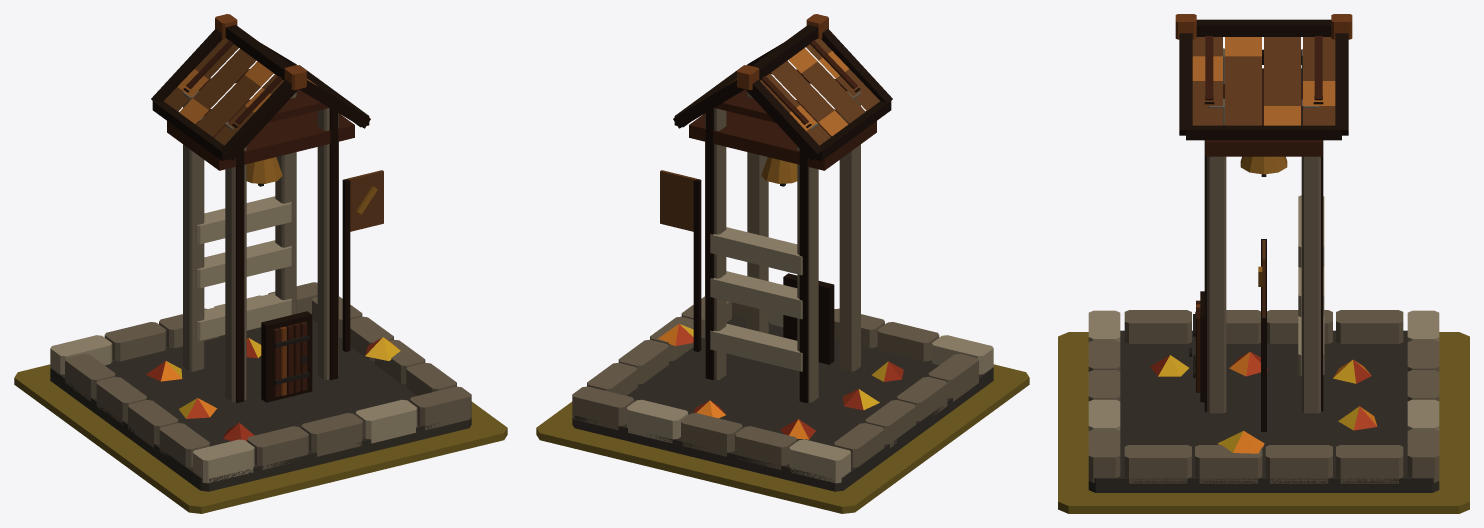
File: bell-tower_t3.glb
3 renders of one model, left to right at view 1: azimuth 30°, elevation 25°; view 2: azimuth 150°, elevation 25°; view 3: azimuth 270°, elevation 25°, orthographic. The views are drawn at different scales.
Visible parts, largest first — view 1: MMR | bell-tower | T03 Architecture.001, MMR | bell-tower | Tier 03 Ground.001, MMR | bell-tower | T03 Autumn Dressing.001, MMR | bell-tower | T03 Banner Flag 1.001, MMR | bell-tower | T03 Bell.001; view 2: MMR | bell-tower | T03 Architecture.001, MMR | bell-tower | Tier 03 Ground.001, MMR | bell-tower | T03 Autumn Dressing.001, MMR | bell-tower | T03 Banner Flag 1.001, MMR | bell-tower | T03 Bell.001; view 3: MMR | bell-tower | T03 Architecture.001, MMR | bell-tower | Tier 03 Ground.001, MMR | bell-tower | T03 Autumn Dressing.001, MMR | bell-tower | T03 Bell.001.
Part boxes in pixels (x1,y1,x2,y2): MMR | bell-tower | T03 Architecture.001: (50, 14, 471, 491); MMR | bell-tower | Tier 03 Ground.001: (14, 364, 507, 513); MMR | bell-tower | T03 Autumn Dressing.001: (146, 337, 400, 441); MMR | bell-tower | T03 Banner Flag 1.001: (347, 170, 383, 231); MMR | bell-tower | T03 Bell.001: (246, 157, 282, 183); MMR | bell-tower | T03 Architecture.001: (572, 14, 993, 491); MMR | bell-tower | Tier 03 Ground.001: (536, 364, 1029, 513); MMR | bell-tower | T03 Autumn Dressing.001: (658, 324, 903, 439); MMR | bell-tower | T03 Banner Flag 1.001: (660, 170, 696, 231); MMR | bell-tower | T03 Bell.001: (761, 157, 797, 183); MMR | bell-tower | T03 Architecture.001: (1088, 14, 1439, 492); MMR | bell-tower | Tier 03 Ground.001: (1058, 332, 1469, 513); MMR | bell-tower | T03 Autumn Dressing.001: (1150, 352, 1377, 453); MMR | bell-tower | T03 Bell.001: (1240, 156, 1287, 174).
Bounding box in the file's own units: 2.35 × 2.58 × 2.35.
Materials: 1 (1 with a texture image).
